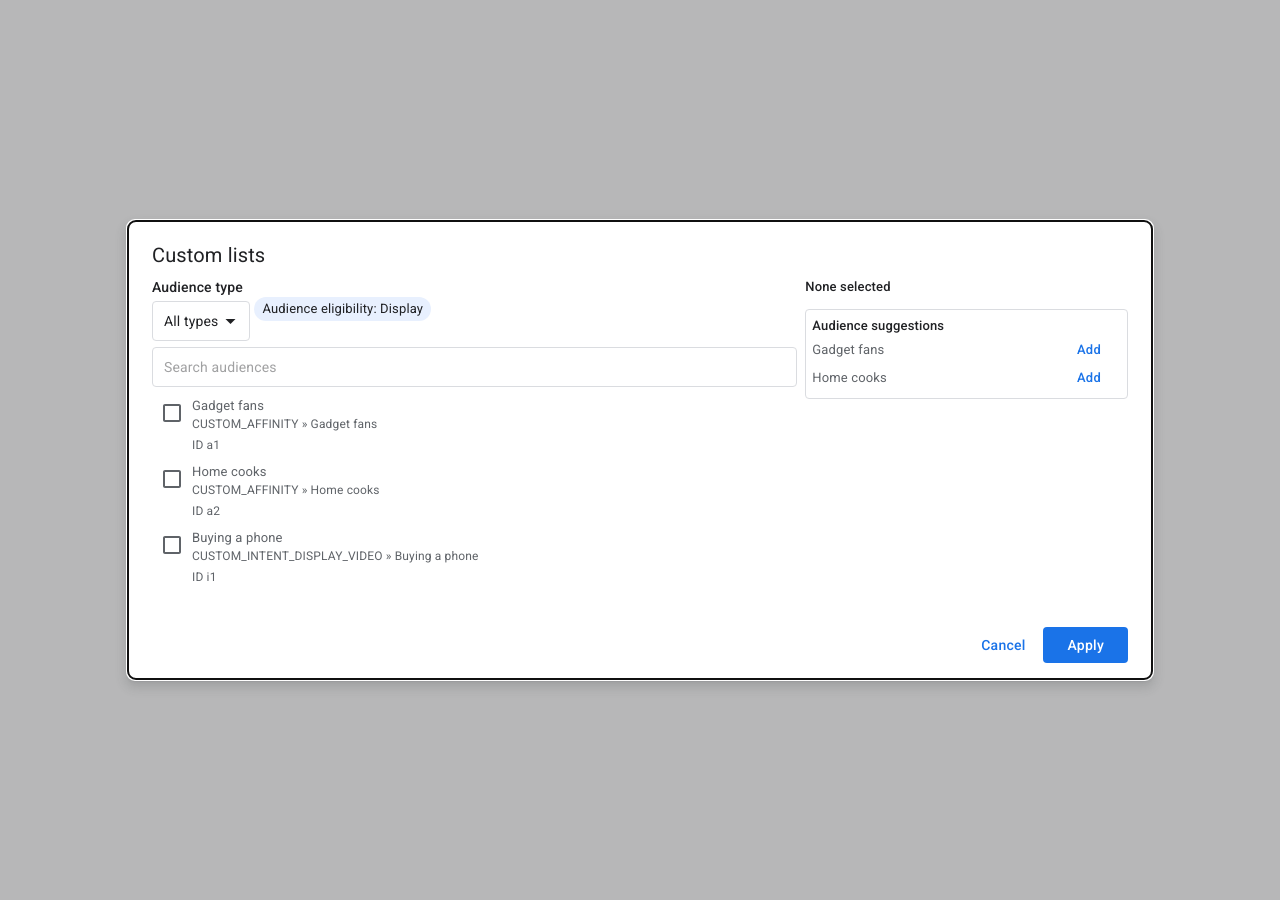
Test: AudiencePicker: custom lists (module 10 2.5, module 14 S2) › filters by category and searches by type name
Click the dropdown named "Audience type" at coordinates (191, 321), box 164,313 -> 218,329
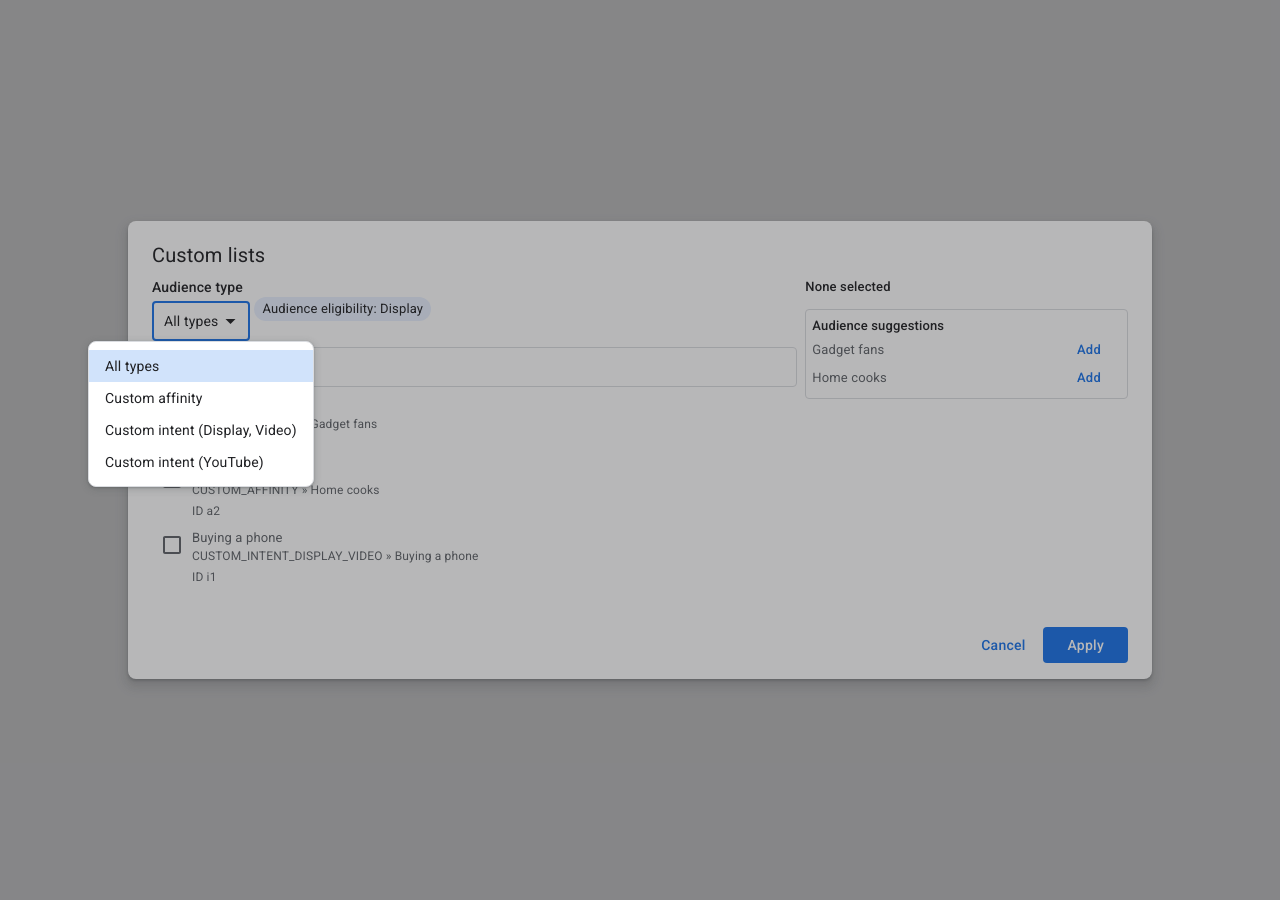
Click the option "Custom affinity" at coordinates (154, 398), box 105,390 -> 203,406
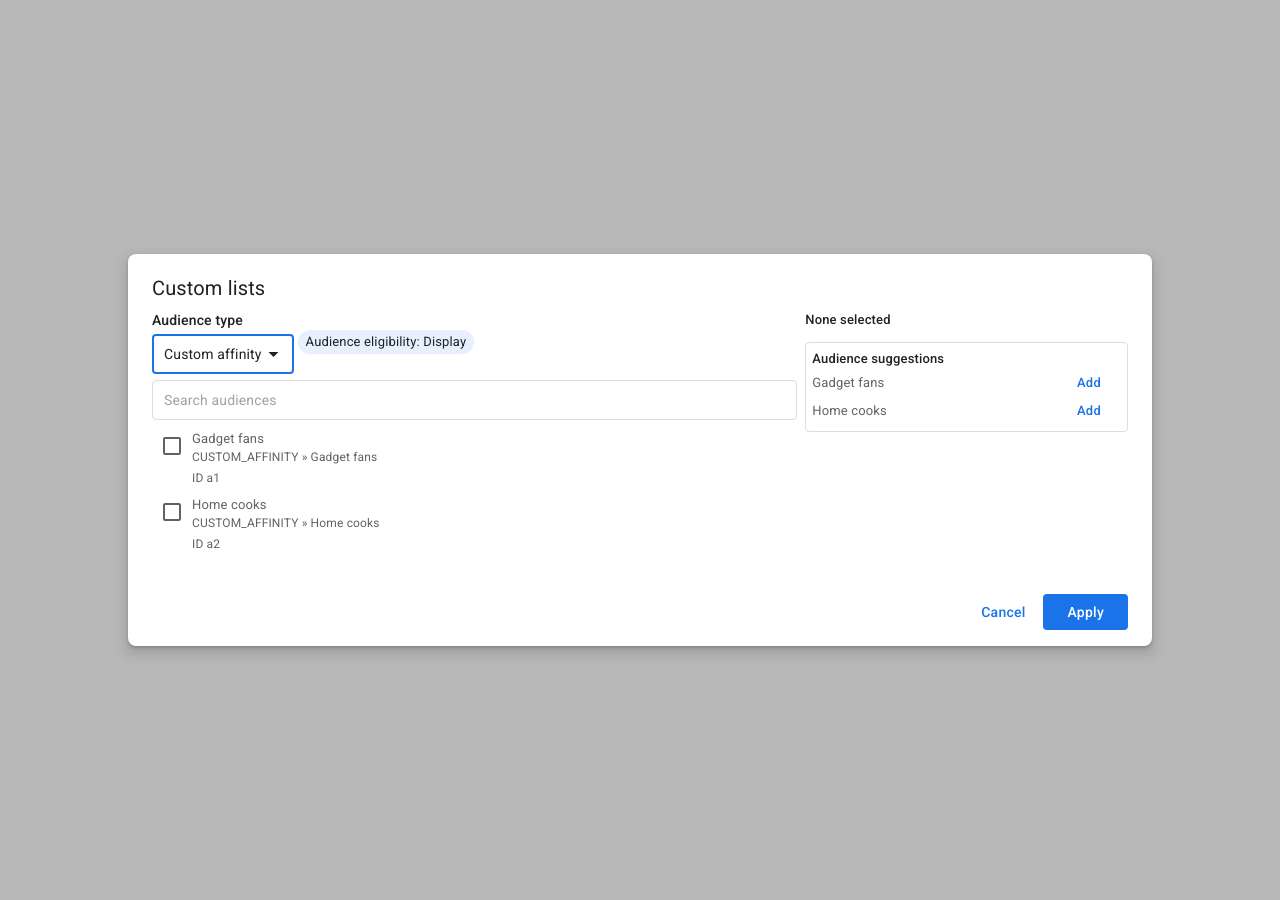
Expected: the text "Buying a phone" is gone
